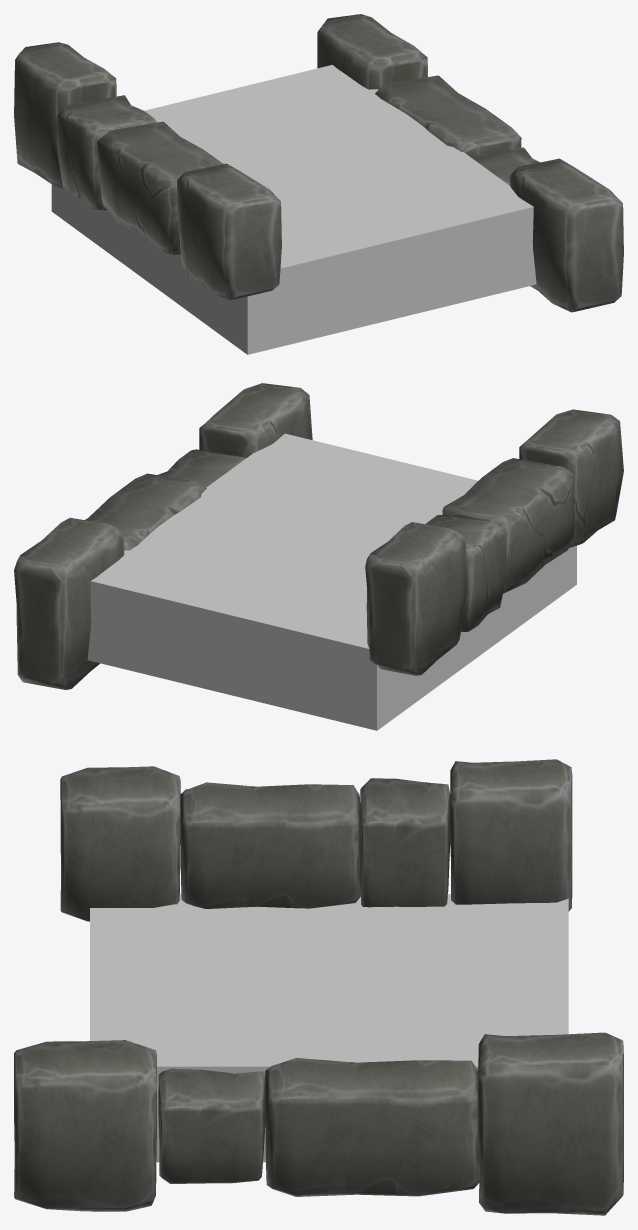
Rendered from Platform_Flying_M.fbx.
3 views of the same model, one above another, from view 1: azimuth 30°, elevation 25°; view 2: azimuth 150°, elevation 25°; view 3: azimuth 270°, elevation 25° (orthographic). The views are drawn at different scales.
Visible parts, largest first — view 1: Platform_Flying_M; view 2: Platform_Flying_M; view 3: Platform_Flying_M.
Boxes of the visible parts, box(x1,y1,x2,y2) form: Platform_Flying_M: box(14, 14, 623, 354); Platform_Flying_M: box(14, 383, 623, 730); Platform_Flying_M: box(14, 759, 623, 1215).
Bounding box in the file's own units: 1475 × 690 × 1613.
